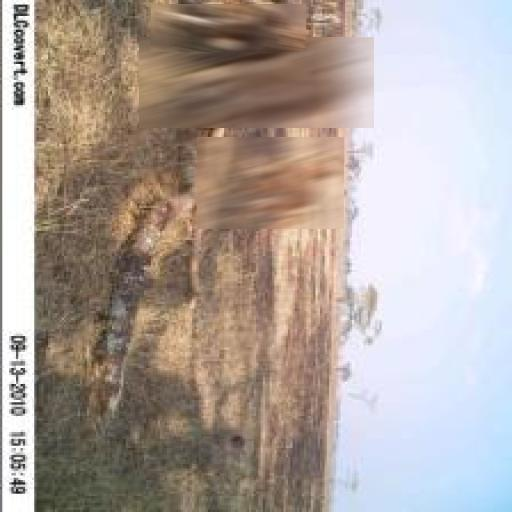lion: (139, 37, 374, 128), (197, 137, 344, 229), (151, 4, 306, 52)
